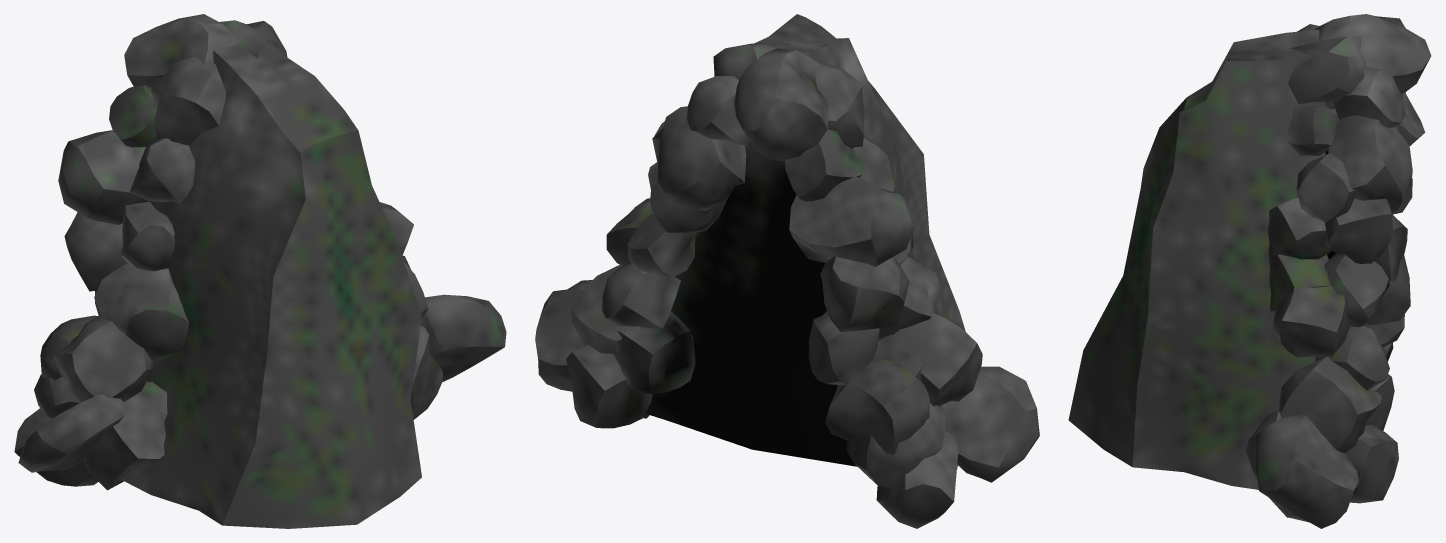
The model's file is SM_CaveEntrance.fbx.
The picture shows the model from 3 angles, left to right: view 1: azimuth 30°, elevation 25°; view 2: azimuth 150°, elevation 25°; view 3: azimuth 270°, elevation 25°; orthographic projection. The views are drawn at different scales.
Parts seen in each view (by area): view 1: SM_CaveEntrance; view 2: SM_CaveEntrance; view 3: SM_CaveEntrance.
Boxes of the visible parts, bbox=[...] form: SM_CaveEntrance: bbox=[14, 14, 506, 528]; SM_CaveEntrance: bbox=[535, 14, 1039, 528]; SM_CaveEntrance: bbox=[1068, 14, 1431, 528].
Bounding box in the file's own units: 96.24 × 82.08 × 63.29.
